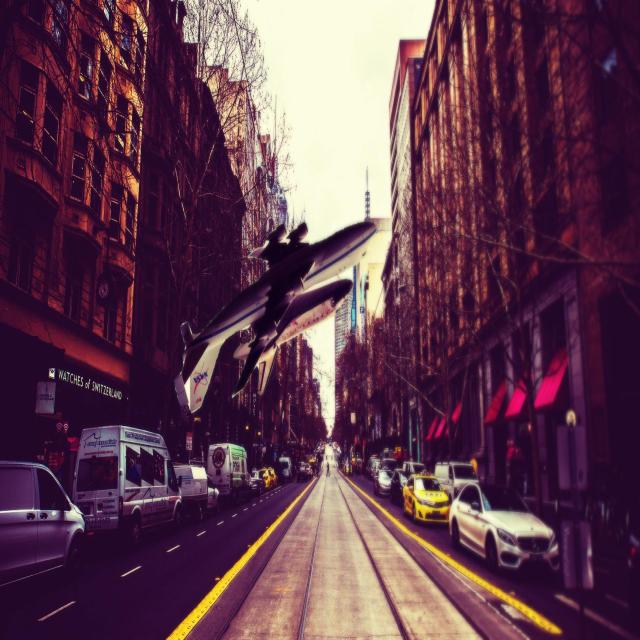airplane: (173, 218, 377, 415)
